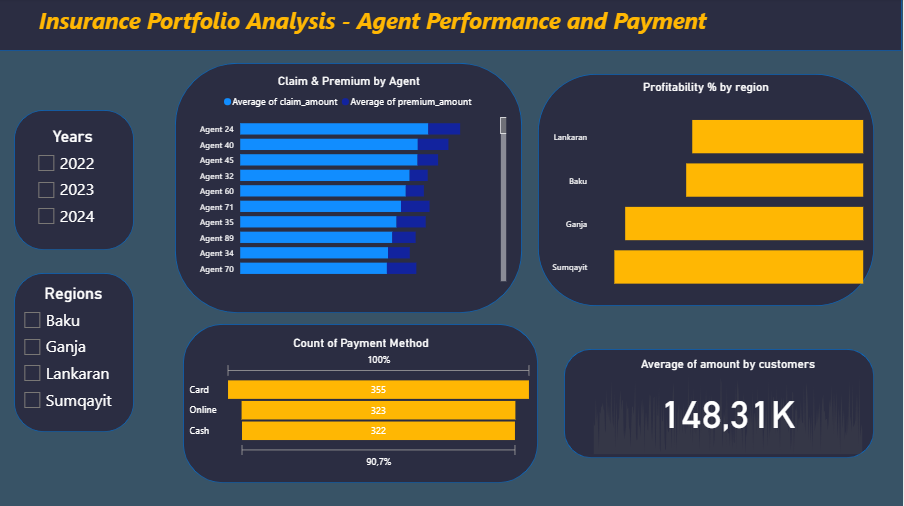

The dashboard page shown, as its layout file describes it:
{"tool":"powerbi","page":{"name":"Agent Performance and Payment","canvas":[1280,720],"ordinal":2},"visuals":[{"type":"shape","box":[0,0,1279.8,75.1],"z":0},{"type":"shape","box":[21.3,158.7,170.1,198.4],"z":1000},{"type":"slicer","title":"Years","fields":{"Values":["policies.start_date.Variation.Date Hierarchy.Year"]},"box":[42.5,182.8,123.3,155.9],"z":2000},{"type":"shape","box":[21.3,389.8,170.1,225.4],"z":3000},{"type":"slicer","title":"Regions","fields":{"Values":["agents.region"]},"box":[22.7,405.4,165.8,195.6],"z":4000},{"type":"shape","box":[249.4,92.1,491.8,354.3],"z":5000},{"type":"shape","box":[763.9,107.7,476.2,328.8],"z":6000},{"type":"barChart","title":"Claim & Premium by Agent","fields":{"Category":["agents.agent_name"],"Y":["claims.claim_amount","policies.premium_amount"]},"box":[267.9,107.7,456.4,299.1],"z":7000},{"type":"shape","box":[260.8,462,503.1,225.4],"z":8000},{"type":"barChart","fields":{"Category":["agents.region"],"Y":["_calculations.Profitability %"]},"box":[773.9,116.2,456.4,320.3],"z":9000},{"type":"funnel","title":"Count of Payment Method ","fields":{"Category":["payments.payment_method"],"Y":["payments.payment_method"]},"box":[265,479.1,496.1,191.3],"z":10000},{"type":"shape","box":[800.8,497.5,439.4,154.5],"z":11000},{"type":"kpi","title":"Average of amount by customers","fields":{"TrendLine":["customers.customer_id"],"Indicator":["payments.amount"]},"box":[837.6,508.8,391.2,143.1],"z":12000},{"type":"textbox","box":[0,4.3,1058.7,66.6],"z":12001}]}

Visuals, with their boxes in screenshot pixels (x1, y1, x2, y2), scaled from the page's 1280x720 canvas onto the 904x506 screenshot:
shape: x1=0 y1=0 x2=903 y2=53
shape: x1=15 y1=112 x2=135 y2=251
"Years" slicer: x1=30 y1=128 x2=117 y2=238
shape: x1=15 y1=274 x2=135 y2=432
"Regions" slicer: x1=16 y1=285 x2=133 y2=422
shape: x1=176 y1=65 x2=523 y2=314
shape: x1=540 y1=76 x2=876 y2=307
"Claim & Premium by Agent" barChart: x1=189 y1=76 x2=512 y2=286
shape: x1=184 y1=325 x2=540 y2=483
barChart - agents.region x _calculations.Profitability %: x1=547 y1=82 x2=869 y2=307
"Count of Payment Method " funnel: x1=187 y1=337 x2=538 y2=471
shape: x1=566 y1=350 x2=876 y2=458
"Average of amount by customers" kpi: x1=592 y1=358 x2=868 y2=458
textbox: x1=0 y1=3 x2=748 y2=50
